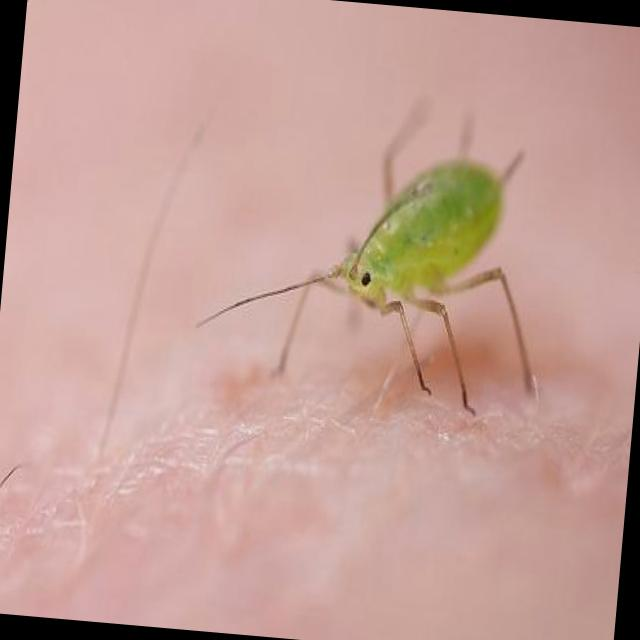Aphids: (196, 73, 598, 454)
